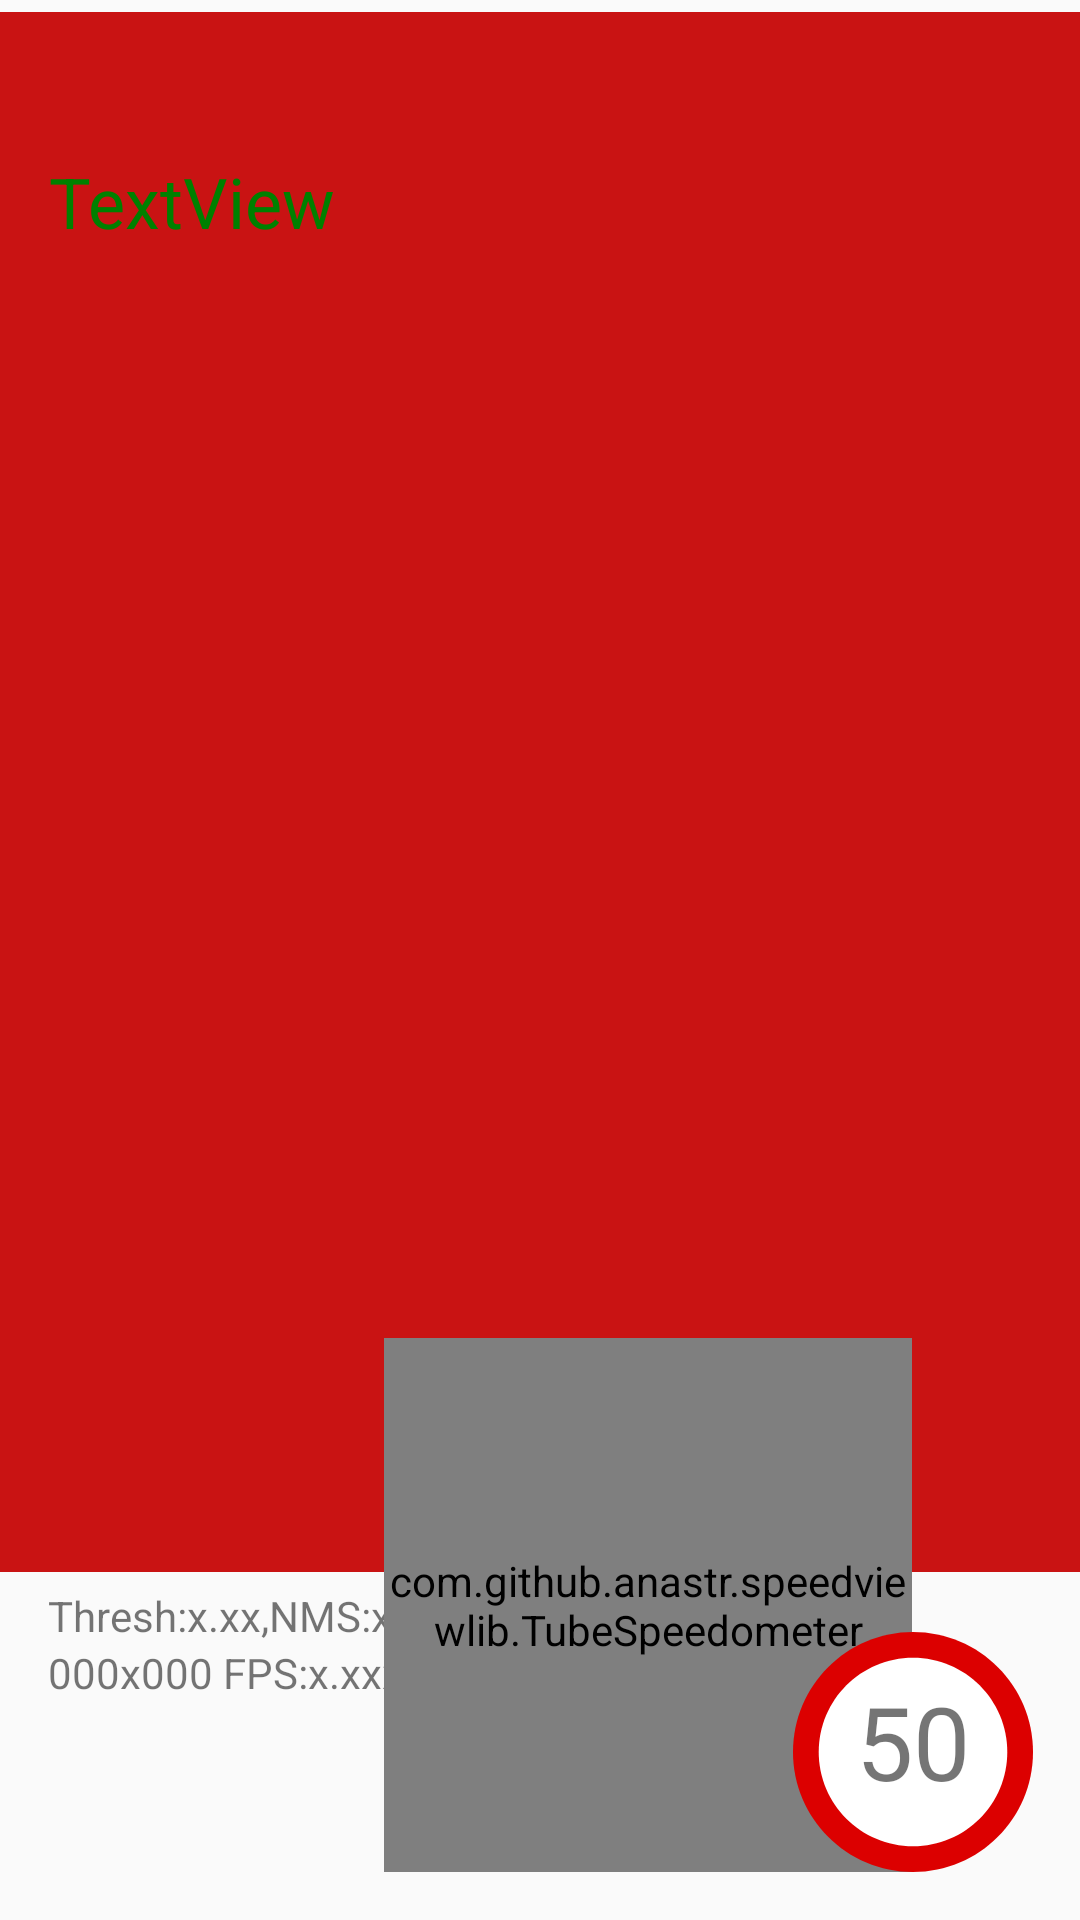

Icons on this 1080px x 1920px Android screen, each with its box as bbox(x1, y1, x2, y2):
speed circle: bbox(782, 1632, 1033, 1872)
